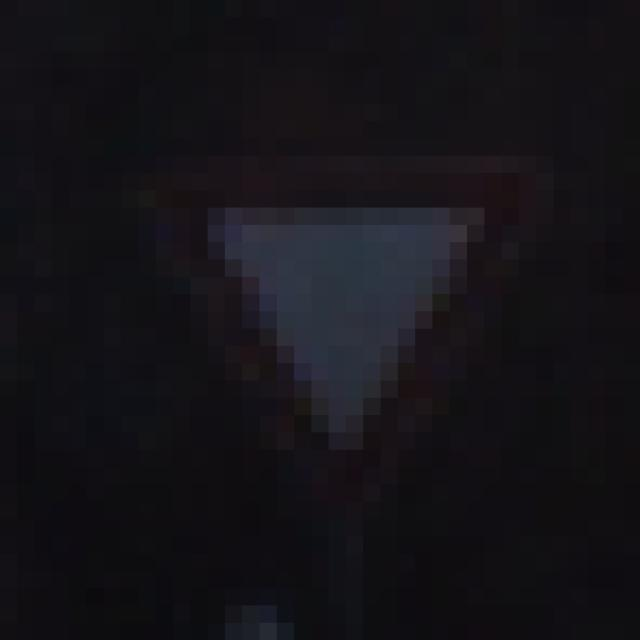Give Way: (105, 105, 554, 554)
